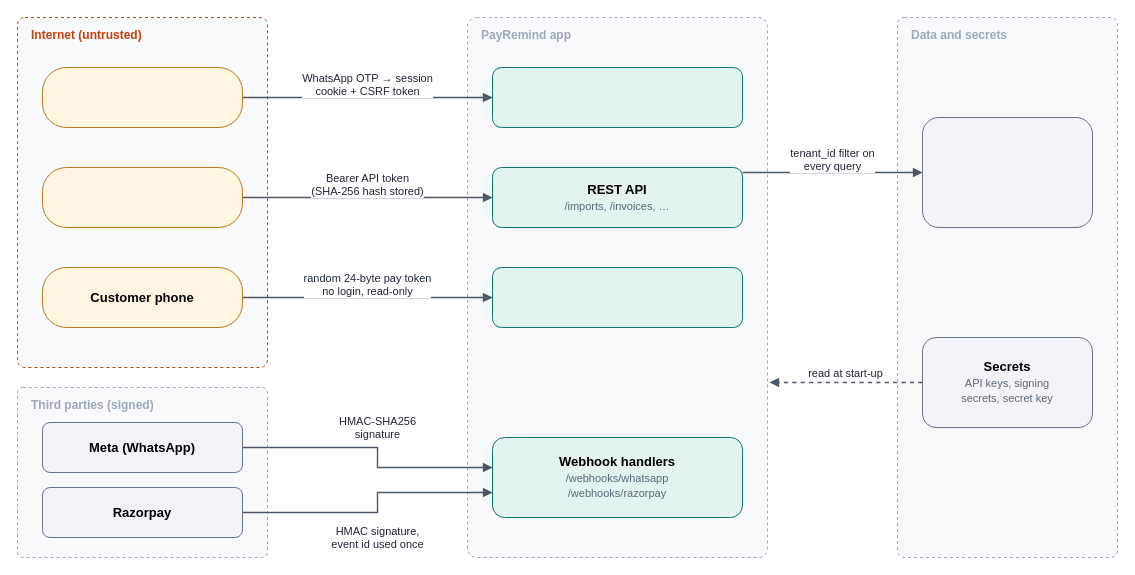
This 1135x575 diagram has some shape labels left out. Each missing label, with the centre of its shape:
"Dashboard /login, /app/*" belongs at point 617,97.
"Merchant browser" belongs at point 142,97.
"Pay page /p/{token}" belongs at point 617,297.
"PostgreSQL tokens, codes and sessions stored only as hashes" belongs at point 1007,172.
"Script / curl" belongs at point 142,197.
